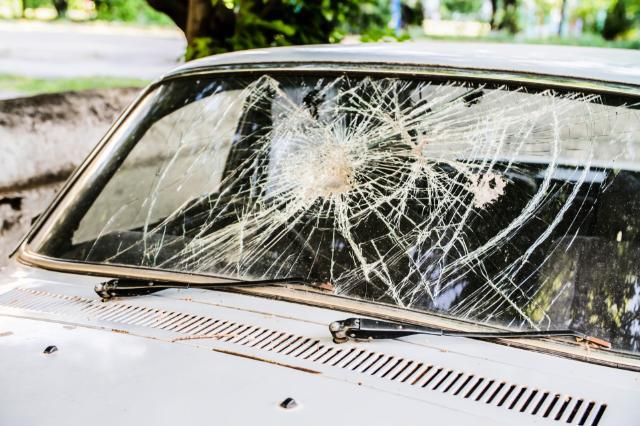Windshield: (33, 51, 640, 354)
